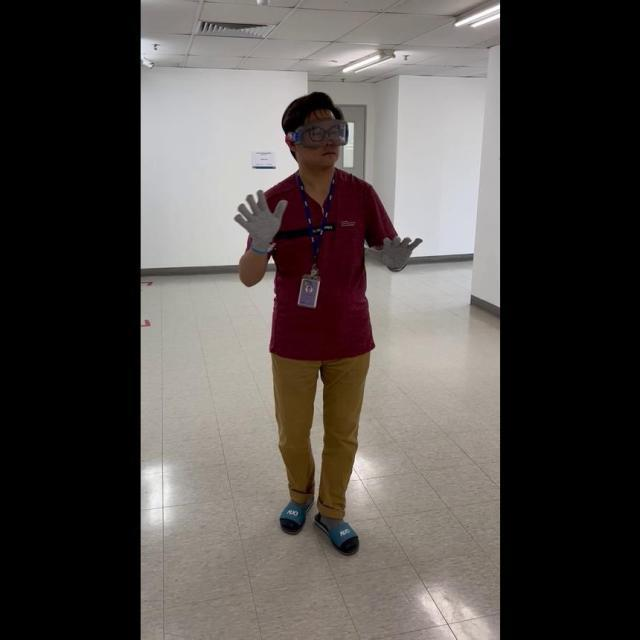gloved_hand: (233, 185, 287, 255), (368, 228, 421, 273)
